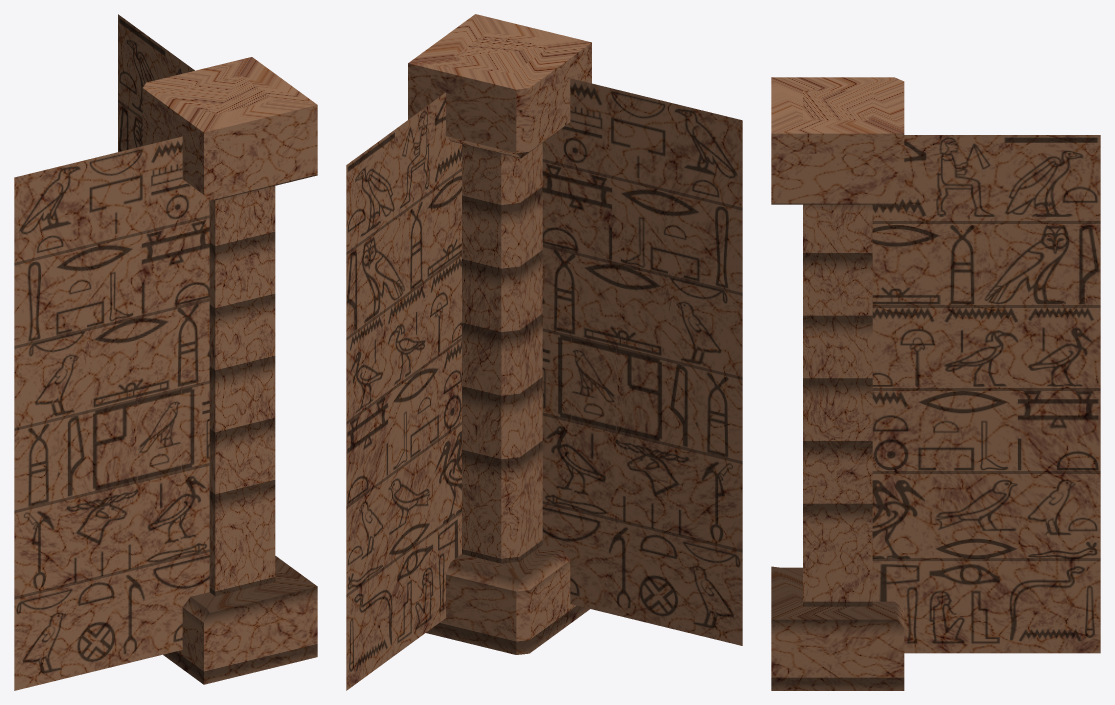
File: Wall_Corner.fbx
3 views of the same model, side by side, from view 1: azimuth 30°, elevation 25°; view 2: azimuth 150°, elevation 25°; view 3: azimuth 270°, elevation 25° (orthographic). The views are drawn at different scales.
Visible parts, largest first — view 1: WallCorner3; view 2: WallCorner3; view 3: WallCorner3.
Boxes of the visible parts, x1,y1,x2,y2 form: WallCorner3: [14, 14, 317, 690]; WallCorner3: [346, 14, 742, 690]; WallCorner3: [771, 77, 1100, 690].
Bounding box in the file's own units: 352 × 659 × 352.
2 materials, 2 textured.
